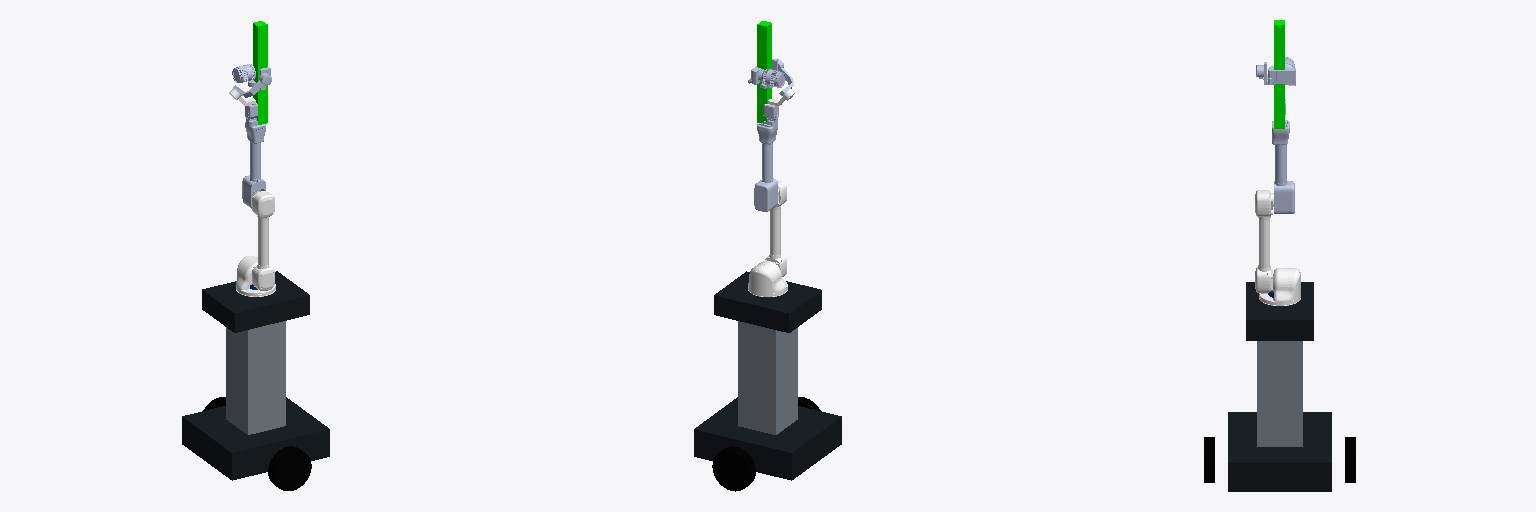
The robot description file, URDF, robot "recomoProto2-two-wheel-whole-body":
<?xml version='1.0' encoding='utf-8'?>
<robot name="recomoProto2-two-wheel-whole-body">
  <material name="chassis_dark">
    <color rgba="0.12 0.14 0.16 1.0" />
  </material>
  <material name="tower_gray">
    <color rgba="0.55 0.58 0.62 1.0" />
  </material>
  <material name="wheel_black">
    <color rgba="0.025 0.025 0.025 1.0" />
  </material>
  <material name="sensor_blue">
    <color rgba="0.08 0.28 0.55 1.0" />
  </material>
  <link name="base_link">
    <inertial>
      <origin rpy="0 0 0" xyz="0.0 0.0 0.4" />
      <mass value="19.265269000" />
      <inertia ixx="1.181535341" ixy="0.000000000" ixz="0.000000000" iyy="1.243194067" iyz="0.000000000" izz="0.534889450" />
    </inertial>
    <visual name="lower_chassis_visual">
      <origin rpy="0 0 0" xyz="0 0 0.140" />
      <geometry>
        <box size="0.520 0.460 0.140" />
      </geometry>
      <material name="chassis_dark" />
    </visual>
    <collision name="lower_chassis_collision">
      <origin rpy="0 0 0" xyz="0 0 0.140" />
      <geometry>
        <box size="0.520 0.460 0.140" />
      </geometry>
    </collision>
    <visual name="tower_visual">
      <origin rpy="0 0 0" xyz="0 0 0.480" />
      <geometry>
        <box size="0.200 0.200 0.620" />
      </geometry>
      <material name="tower_gray" />
    </visual>
    <collision name="tower_collision">
      <origin rpy="0 0 0" xyz="0 0 0.480" />
      <geometry>
        <box size="0.200 0.200 0.620" />
      </geometry>
    </collision>
    <visual name="sensor_head_visual">
      <origin rpy="0 0 0" xyz="0 0 0.820" />
      <geometry>
        <box size="0.400 0.300 0.100" />
      </geometry>
      <material name="chassis_dark" />
    </visual>
    <collision name="sensor_head_collision">
      <origin rpy="0 0 0" xyz="0 0 0.820" />
      <geometry>
        <box size="0.400 0.300 0.100" />
      </geometry>
    </collision>
  </link>
  <link name="left_wheel_link">
    <inertial>
      <origin rpy="0 0 0" xyz="0 0 0" />
      <mass value="1.5" />
      <inertia ixx="0.004183459999999999" ixy="0" ixz="0" iyy="0.0077419199999999985" iyz="0" izz="0.004183459999999999" />
    </inertial>
    <visual>
      <origin rpy="1.5707963267948966 0 0" xyz="0 0 0" />
      <geometry>
        <cylinder length="0.05" radius="0.1016" />
      </geometry>
      <material name="wheel_black" />
    </visual>
    <collision>
      <origin rpy="1.5707963267948966 0 0" xyz="0 0 0" />
      <geometry>
        <cylinder length="0.05" radius="0.1016" />
      </geometry>
    </collision>
  </link>
  <joint name="left_wheel_joint" type="continuous">
    <origin rpy="0 0 0" xyz="0 0.31 0.1016" />
    <parent link="base_link" />
    <child link="left_wheel_link" />
    <axis xyz="0 1 0" />
    <limit effort="20.0" velocity="20.0" />
    <dynamics damping="0.0" friction="0.0" />
  </joint>
  <link name="right_wheel_link">
    <inertial>
      <origin rpy="0 0 0" xyz="0 0 0" />
      <mass value="1.5" />
      <inertia ixx="0.004183459999999999" ixy="0" ixz="0" iyy="0.0077419199999999985" iyz="0" izz="0.004183459999999999" />
    </inertial>
    <visual>
      <origin rpy="1.5707963267948966 0 0" xyz="0 0 0" />
      <geometry>
        <cylinder length="0.05" radius="0.1016" />
      </geometry>
      <material name="wheel_black" />
    </visual>
    <collision>
      <origin rpy="1.5707963267948966 0 0" xyz="0 0 0" />
      <geometry>
        <cylinder length="0.05" radius="0.1016" />
      </geometry>
    </collision>
  </link>
  <joint name="right_wheel_joint" type="continuous">
    <origin rpy="0 0 0" xyz="0 -0.31 0.1016" />
    <parent link="base_link" />
    <child link="right_wheel_link" />
    <axis xyz="0 1 0" />
    <limit effort="20.0" velocity="20.0" />
    <dynamics damping="0.0" friction="0.0" />
  </joint>
  <link name="imu_link">
    <inertial>
      <origin rpy="0 0 0" xyz="0 0 0" />
      <mass value="0.001" />
      <inertia ixx="1e-06" ixy="0" ixz="0" iyy="1e-06" iyz="0" izz="1e-06" />
    </inertial>
    <visual>
      <geometry>
        <box size="0.050 0.040 0.015" />
      </geometry>
      <material name="sensor_blue" />
    </visual>
  </link>
  <joint name="imu_joint" type="fixed">
    <parent link="base_link" />
    <child link="imu_link" />
    <origin rpy="0 0 0" xyz="0 0 0.110" />
  </joint>
  <link name="laser_link">
    <inertial>
      <origin rpy="0 0 0" xyz="0 0 0" />
      <mass value="0.001" />
      <inertia ixx="1e-06" ixy="0" ixz="0" iyy="1e-06" iyz="0" izz="1e-06" />
    </inertial>
    <visual>
      <geometry>
        <cylinder length="0.060" radius="0.055" />
      </geometry>
      <material name="sensor_blue" />
    </visual>
  </link>
  <joint name="laser_joint" type="fixed">
    <parent link="base_link" />
    <child link="laser_link" />
    <origin rpy="0 0 0" xyz="0 0 0.900" />
  </joint>
  <link name="upper_imu_link">
    <inertial>
      <origin rpy="0 0 0" xyz="0 0 0" />
      <mass value="0.001" />
      <inertia ixx="1e-06" ixy="0" ixz="0" iyy="1e-06" iyz="0" izz="1e-06" />
    </inertial>
  </link>
  <joint name="upper_imu_joint" type="fixed">
    <parent link="laser_link" />
    <child link="upper_imu_link" />
    <origin rpy="0 0 0" xyz="0 0 0" />
  </joint>
  <link name="arm_base_link">
    <inertial>
      <origin xyz="-0.00014044 0.00033905 -0.038979" rpy="0 0 0" />
      <mass value="0.095731" />
      <inertia ixx="3.5316E-05" ixy="1.4007E-17" ixz="-4.2483E-18" iyy="3.5316E-05" iyz="-1.3664E-18" izz="3.0657E-05" />
    </inertial>
  </link>
  <link name="arm_link_1">
    <inertial>
      <origin xyz="-0.00027729 0.01005 0.060567" rpy="0 0 0" />
      <mass value="0.91" />
      <inertia ixx="0.0007315" ixy="4.0673E-06" ixz="-1.703E-06" iyy="0.00068148" iyz="-7.0581E-05" izz="0.00062056" />
    </inertial>
    <visual>
      <origin xyz="0 0 0" rpy="0 0 0" />
      <geometry>
        <mesh filename="../meshes/recomoProto2-190/arm_link_1.STL" />
      </geometry>
      <material name="">
        <color rgba="1 1 1 1" />
      </material>
    </visual>
    <collision>
      <origin xyz="0 0 0" rpy="0 0 0" />
      <geometry>
        <mesh filename="../meshes/recomoProto2-190/arm_link_1.STL" />
      </geometry>
    </collision>
  </link>
  <link name="arm_link_2">
    <inertial>
      <origin xyz="2.2679E-08 0.19924 0.037556" rpy="0 0 0" />
      <mass value="0.61" />
      <inertia ixx="0.0030576" ixy="6.4503E-08" ixz="-5.9336E-11" iyy="0.0003437" iyz="-1.2481E-10" izz="0.0031487" />
    </inertial>
    <visual>
      <origin xyz="0 0 0" rpy="0 0 0" />
      <geometry>
        <mesh filename="../meshes/recomoProto2-190/arm_link_2.STL" />
      </geometry>
      <material name="">
        <color rgba="1 1 1 1" />
      </material>
    </visual>
    <collision>
      <origin xyz="0 0 0" rpy="0 0 0" />
      <geometry>
        <mesh filename="../meshes/recomoProto2-190/arm_link_2.STL" />
      </geometry>
    </collision>
  </link>
  <link name="arm_link_3">
    <inertial>
      <origin xyz="-0.004989 -0.21609 0.034665" rpy="0 0 0" />
      <mass value="1.27" />
      <inertia ixx="0.0016994" ixy="3.3526E-07" ixz="3.4668E-06" iyy="0.00057506" iyz="4.4555E-06" izz="0.0016877" />
    </inertial>
    <visual>
      <origin xyz="0 0 0" rpy="0 0 0" />
      <geometry>
        <mesh filename="../meshes/recomoProto2-190/arm_link_3.STL" />
      </geometry>
      <material name="arm_link_3_material">
        <color rgba="0.79216 0.81961 0.93333 1" />
      </material>
    </visual>
    <collision>
      <origin xyz="0 0 0" rpy="0 0 0" />
      <geometry>
        <mesh filename="../meshes/recomoProto2-190/arm_link_3.STL" />
      </geometry>
    </collision>
  </link>
  <link name="arm_link_4">
    <inertial>
      <origin xyz="-0.070164 2.4195E-16 0.042022" rpy="0 0 0" />
      <mass value="0.45" />
      <inertia ixx="0.00013075" ixy="1.5223E-18" ixz="0.00017126" iyy="0.00044213" iyz="-9.537E-19" izz="0.00034462" />
    </inertial>
    <visual>
      <origin xyz="0 0 0" rpy="0 0 0" />
      <geometry>
        <mesh filename="../meshes/recomoProto2-190/arm_link_4.STL" />
      </geometry>
      <material name="">
        <color rgba="1 1 1 1" />
      </material>
    </visual>
    <collision>
      <origin xyz="0 0 0" rpy="0 0 0" />
      <geometry>
        <mesh filename="../meshes/recomoProto2-190/arm_link_4.STL" />
      </geometry>
    </collision>
  </link>
  <link name="arm_link_5">
    <inertial>
      <origin xyz="-0.0017203 -0.063107 0.072647" rpy="0 0 0" />
      <mass value="0.45" />
      <inertia ixx="0.0006156" ixy="-6.2991E-06" ixz="1.0648E-05" iyy="0.0004255" iyz="0.00023199" izz="0.00022502" />
    </inertial>
    <visual>
      <origin xyz="0 0 0" rpy="0 0 0" />
      <geometry>
        <mesh filename="../meshes/recomoProto2-190/arm_link_5.STL" />
      </geometry>
      <material name="">
        <color rgba="0.79216 0.81961 0.93333 1" />
      </material>
    </visual>
    <collision>
      <origin xyz="0 0 0" rpy="0 0 0" />
      <geometry>
        <mesh filename="../meshes/recomoProto2-190/arm_link_5.STL" />
      </geometry>
    </collision>
  </link>
  <link name="arm_link_6">
    <inertial>
      <origin xyz="-0.0050729 0.033014 0.045516" rpy="0 0 0" />
      <mass value="0.24" />
      <inertia ixx="0.0002457" ixy="9.9849E-06" ixz="1.7169E-05" iyy="0.0001741" iyz="-7.7172E-05" izz="0.0001101" />
    </inertial>
    <visual>
      <origin xyz="0 0 0" rpy="0 0 0" />
      <geometry>
        <mesh filename="../meshes/recomoProto2-190/arm_link_6.STL" />
      </geometry>
      <material name="">
        <color rgba="0.79216 0.81961 0.93333 1" />
      </material>
    </visual>
    <collision>
      <origin xyz="0 0 0" rpy="0 0 0" />
      <geometry>
        <mesh filename="../meshes/recomoProto2-190/arm_link_6.STL" />
      </geometry>
    </collision>
  </link>
  <link name="cam_link">
    <inertial>
      <origin xyz="-0.0092646 -4.9407E-05 0.0061835" rpy="0 0 0" />
      <mass value="1.7" />
      <inertia ixx="0.0003447" ixy="-6.5753E-06" ixz="2.4463E-05" iyy="0.00056714" iyz="1.3806E-06" izz="0.00070106" />
    </inertial>
    <visual>
      <origin xyz="0 0 0" rpy="0 0 0" />
      <geometry>
        <mesh filename="../meshes/recomoProto2-190/cam_link.STL" />
      </geometry>
      <material name="">
        <color rgba="0.79216 0.81961 0.93333 1" />
      </material>
    </visual>
    <collision>
      <origin xyz="0 0 0" rpy="0 0 0" />
      <geometry>
        <mesh filename="../meshes/recomoProto2-190/cam_link.STL" />
      </geometry>
    </collision>
  </link>
  <link name="ee_tool">
    <inertial>
      <origin xyz="0 0 0" rpy="0 0 0" />
      <mass value="0.001" />
      <inertia ixx="2.3333E-07" ixy="0" ixz="0" iyy="2.3333E-07" iyz="0" izz="5.0E-08" />
    </inertial>
    <visual>
      <origin xyz="0 0 0" rpy="0 0 0" />
      <geometry>
        <box size="0.02 0.02 0.02" />
      </geometry>
      <material name="ee_tool_red">
        <color rgba="1 0 0 1" />
      </material>
    </visual>
    <collision>
      <origin xyz="0 0 0" rpy="0 0 0" />
      <geometry>
        <box size="0.02 0.02 0.02" />
      </geometry>
    </collision>
  </link>
  <link name="ee1_tool">
    <inertial>
      <origin xyz="0 0 0" rpy="0 0 0" />
      <mass value="0.001" />
      <inertia ixx="2.3333E-07" ixy="0" ixz="0" iyy="2.3333E-07" iyz="0" izz="5.0E-08" />
    </inertial>
    <visual>
      <origin xyz="0 0 0" rpy="0 0 0" />
      <geometry>
        <box size="0.5 0.05 0.05" />
      </geometry>
      <material name="ee1_tool_green">
        <color rgba="0 1 0 1" />
      </material>
    </visual>
  </link>
  <link name="ee1_level_pitch_link">
    <inertial>
      <origin xyz="0 0 0" rpy="0 0 0" />
      <mass value="0.001" />
      <inertia ixx="1e-06" ixy="0" ixz="0" iyy="1e-06" iyz="0" izz="1e-06" />
    </inertial>
    <visual>
      <origin xyz="0 0 0" rpy="0 0 0" />
      <geometry>
        <box size="0.01 0.01 0.01" />
      </geometry>
      <material name="ee1_gray">
        <color rgba="0.5 0.5 0.5 1" />
      </material>
    </visual>
  </link>
  <link name="ee1_rotz_link">
    <inertial>
      <origin xyz="0 0 0" rpy="0 0 0" />
      <mass value="0.001" />
      <inertia ixx="1e-06" ixy="0" ixz="0" iyy="1e-06" iyz="0" izz="1e-06" />
    </inertial>
    <visual>
      <origin xyz="0 0 0" rpy="0 0 0" />
      <geometry>
        <box size="0.01 0.01 0.01" />
      </geometry>
      <material name="ee1_gray">
        <color rgba="0.5 0.5 0.5 1" />
      </material>
    </visual>
  </link>
  <link name="ee1_roty_link">
    <inertial>
      <origin xyz="0 0 0" rpy="0 0 0" />
      <mass value="0.001" />
      <inertia ixx="1e-06" ixy="0" ixz="0" iyy="1e-06" iyz="0" izz="1e-06" />
    </inertial>
    <visual>
      <origin xyz="0 0 0" rpy="0 0 0" />
      <geometry>
        <box size="0.01 0.01 0.01" />
      </geometry>
      <material name="ee1_gray">
        <color rgba="0.5 0.5 0.5 1" />
      </material>
    </visual>
  </link>
  <link name="ee1_rotx_link">
    <inertial>
      <origin xyz="0 0 0" rpy="0 0 0" />
      <mass value="0.001" />
      <inertia ixx="1e-06" ixy="0" ixz="0" iyy="1e-06" iyz="0" izz="1e-06" />
    </inertial>
    <visual>
      <origin xyz="0 0 0" rpy="0 0 0" />
      <geometry>
        <box size="0.01 0.01 0.01" />
      </geometry>
      <material name="ee1_gray">
        <color rgba="0.5 0.5 0.5 1" />
      </material>
    </visual>
  </link>
  <joint name="arm_base_joint" type="fixed">
    <origin xyz="0 0 0.880" rpy="0 0 0" />
    <parent link="base_link" />
    <child link="arm_base_link" />
  </joint>
  <joint name="joint6_arm_yaw" type="revolute">
    <origin xyz="0 0 0" rpy="0 0 0" />
    <parent link="arm_base_link" />
    <child link="arm_link_1" />
    <axis xyz="0 0 1" />
    <limit lower="-3.1416" upper="3.1416" effort="30" velocity="0.5" />
  </joint>
  <joint name="joint5_arm_pitch" type="revolute">
    <origin xyz="0 -0.028 0.07788" rpy="1.5708 0 0" />
    <parent link="arm_link_1" />
    <child link="arm_link_2" />
    <axis xyz="0 0 1" />
    <limit lower="-1.57" upper="1.5707963268" effort="30" velocity="0.5" />
  </joint>
  <joint name="joint4_elbow_pitch" type="revolute">
    <origin xyz="0 0.4 0" rpy="3.1416 0 0" />
    <parent link="arm_link_2" />
    <child link="arm_link_3" />
    <axis xyz="0 0 1" />
    <limit lower="-2.3562" upper="2.3562" effort="30.0" velocity="0.5" />
  </joint>
  <joint name="joint3_gimbal_yaw" type="revolute">
    <origin xyz="0 -0.47088 0.028" rpy="1.5708 0 0" />
    <parent link="arm_link_3" />
    <child link="arm_link_4" />
    <axis xyz="0 0 1" />
    <limit lower="-3.1416" upper="3.1416" effort="10.0" velocity="0.5" />
  </joint>
  <joint name="joint2_gimbal_roll" type="revolute">
    <origin xyz="-0.099888 0 0.077538" rpy="0 0.94248 0" />
    <parent link="arm_link_4" />
    <child link="arm_link_5" />
    <axis xyz="0 0 1" />
    <limit lower="-3.2" upper="1.57" effort="10.0" velocity="0.5" />
  </joint>
  <joint name="joint1_gimbal_pitch" type="revolute">
    <origin xyz="-0.0031465 -0.075 0.12575" rpy="-1.5708 -0.94248 0" />
    <parent link="arm_link_5" />
    <child link="arm_link_6" />
    <axis xyz="0 0 1" />
    <limit lower="-3.2" upper="1.57" effort="10.0" velocity="0.5" />
  </joint>
  <joint name="camera_optical_center" type="fixed">
    <origin xyz="0 0.0065609 0.10147" rpy="0 -1.5708 0" />
    <parent link="arm_link_6" />
    <child link="cam_link" />
  </joint>
  <joint name="ee_tool_fixed" type="fixed">
    <origin xyz="0 0 0" rpy="0 0 0" />
    <parent link="cam_link" />
    <child link="ee_tool" />
  </joint>
  <joint name="ee1_level_pitch" type="fixed">
    <origin xyz="0.019693 -0.618316 0.024693" rpy="3.14159 0 1.5708" />
    <parent link="arm_link_3" />
    <child link="ee1_level_pitch_link" />
  </joint>
  <joint name="ee1_rot_z" type="fixed">
    <origin xyz="0 0 0" rpy="0 0 0" />
    <parent link="ee1_level_pitch_link" />
    <child link="ee1_rotz_link" />
  </joint>
  <joint name="ee1_rot_y" type="fixed">
    <origin xyz="0 0 0" rpy="0 0 0" />
    <parent link="ee1_rotz_link" />
    <child link="ee1_roty_link" />
  </joint>
  <joint name="ee1_rot_x" type="fixed">
    <origin xyz="0 0 0" rpy="0 0 0" />
    <parent link="ee1_roty_link" />
    <child link="ee1_rotx_link" />
  </joint>
  <joint name="ee1_tool_mount_fixed" type="fixed">
    <origin xyz="0 0 0" rpy="0 0 0" />
    <parent link="ee1_rotx_link" />
    <child link="ee1_tool" />
  </joint>
</robot>

--- Render facts (derived) ---
Views: 3 orthographic renders of the robot side by side, from view 1: azimuth 30°, elevation 25°; view 2: azimuth 150°, elevation 25°; view 3: azimuth 270°, elevation 25°.
Model recomoProto2-two-wheel-whole-body with 20 links and 19 joints (6 revolute, 2 continuous, 11 fixed), rooted at base_link, posed every joint at zero.
Visible links, largest first — view 1: base_link, arm_link_2, right_wheel_link, arm_link_3, ee1_tool, arm_link_1; view 2: base_link, arm_link_3, left_wheel_link, arm_link_1, ee1_tool, arm_link_2, cam_link; view 3: base_link, arm_link_2, arm_link_3, arm_link_1, ee1_tool, cam_link.
Boxes of the visible links, x1,y1,x2,y2 form: base_link: (182, 271, 329, 480); arm_link_2: (252, 191, 274, 290); right_wheel_link: (268, 446, 311, 490); arm_link_3: (242, 105, 265, 208); ee1_tool: (253, 21, 267, 124); arm_link_1: (236, 256, 275, 296); base_link: (694, 271, 841, 480); arm_link_3: (754, 105, 778, 211); left_wheel_link: (712, 446, 755, 491); arm_link_1: (748, 261, 787, 296); ee1_tool: (757, 21, 771, 122); arm_link_2: (765, 180, 786, 276); cam_link: (748, 66, 785, 87); base_link: (1228, 282, 1331, 491); arm_link_2: (1255, 190, 1273, 293); arm_link_3: (1272, 99, 1294, 213); arm_link_1: (1259, 268, 1300, 305); ee1_tool: (1274, 20, 1284, 128); cam_link: (1268, 57, 1295, 85).
Bounding box of the posed robot: 0.52 × 0.67 × 2.23 m (x, y, z).
Meshes: 7 distinct files referenced, 7 mesh visuals loaded (7 binary STL).
